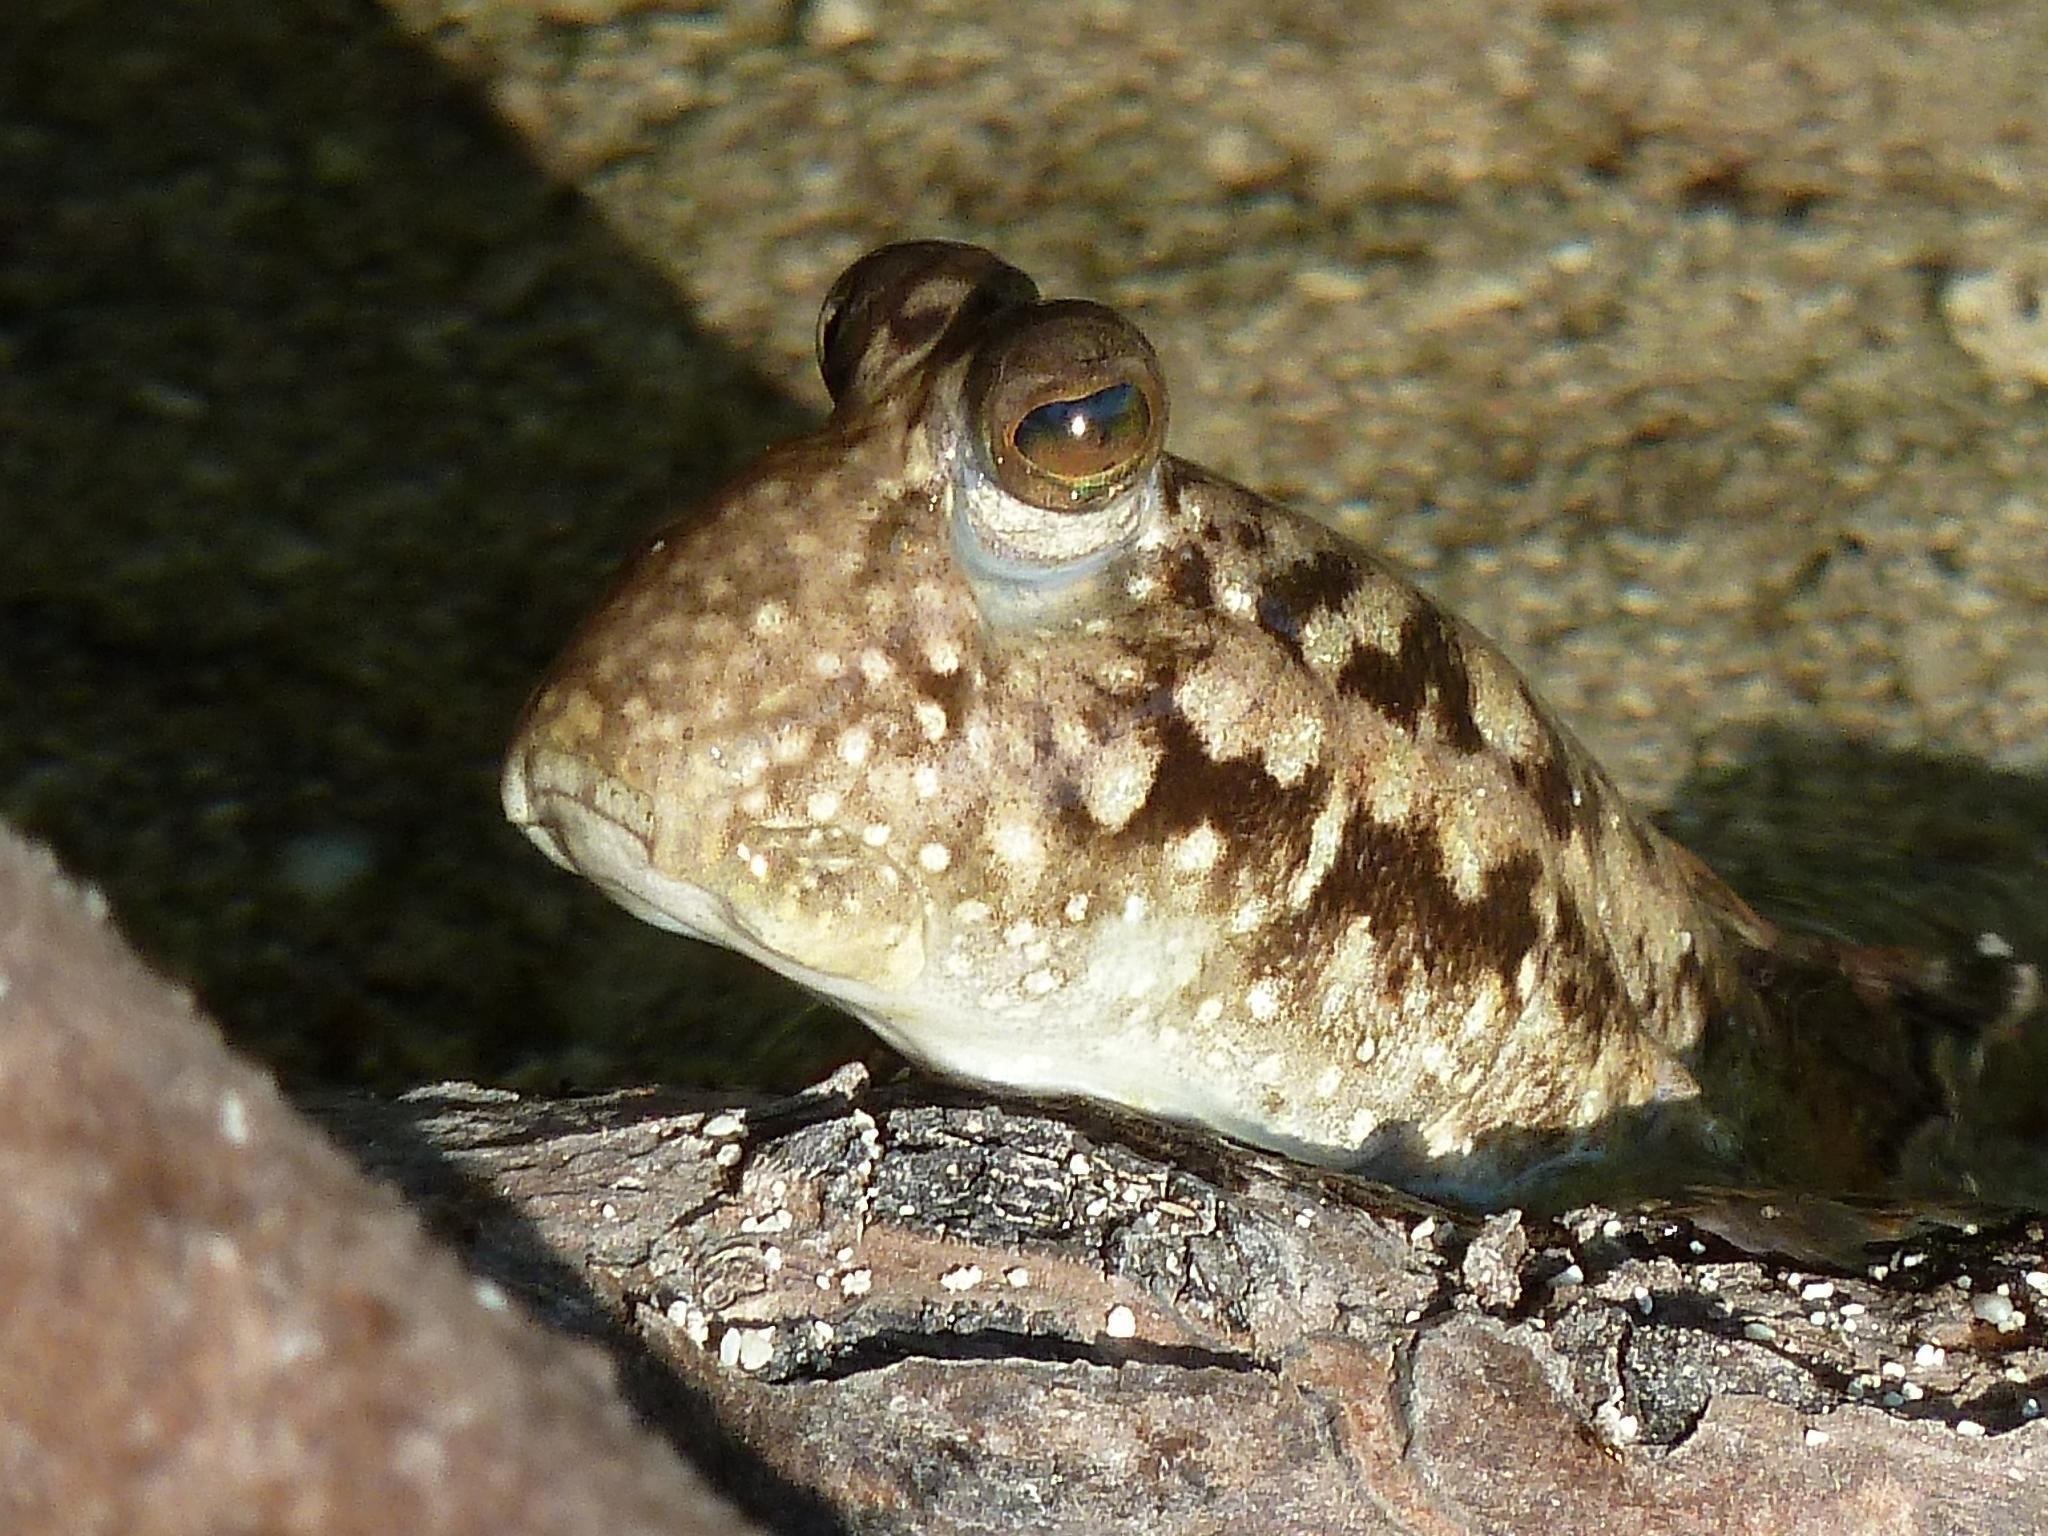Fish: (361, 194, 2038, 1362)
